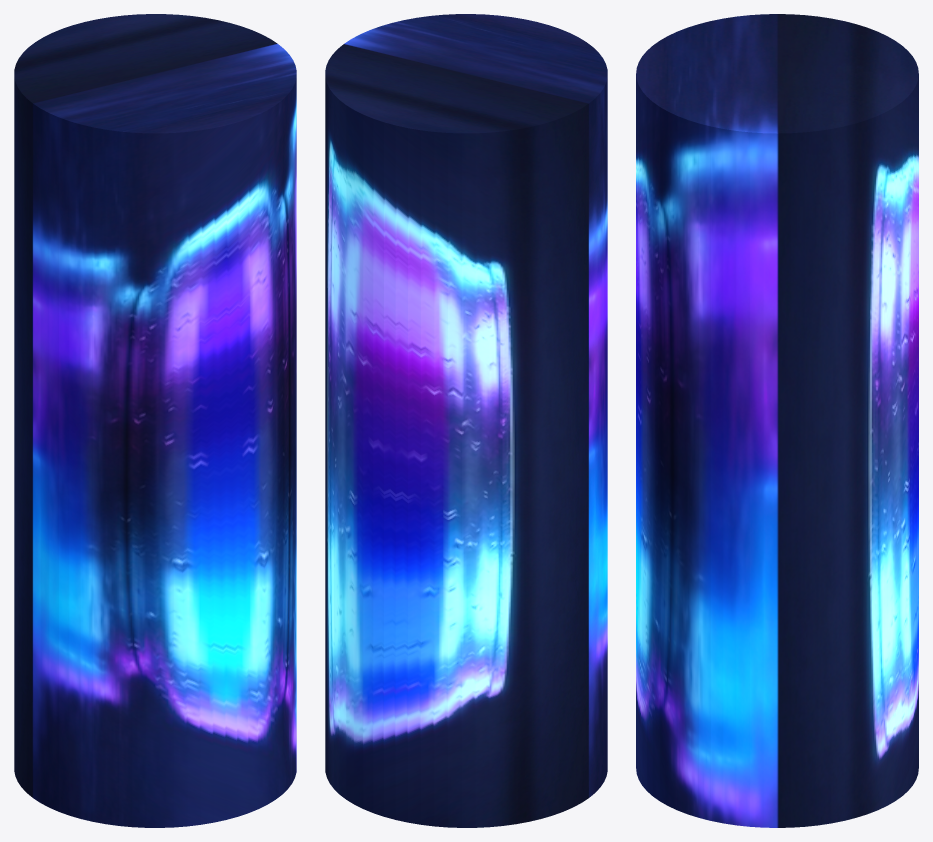
Rendered from product.glb.
3 renders of one model, left to right at view 1: azimuth 30°, elevation 25°; view 2: azimuth 150°, elevation 25°; view 3: azimuth 270°, elevation 25°, orthographic.
Visible parts, largest first — view 1: world; view 2: world; view 3: world.
Boxes of the visible parts, box(x1,y1,x2,y2) form: world: box(14, 14, 296, 827); world: box(325, 14, 607, 827); world: box(636, 14, 918, 827).
Bounding box in the file's own units: 0.062 × 0.168 × 0.062.
1 material, 1 textured.
